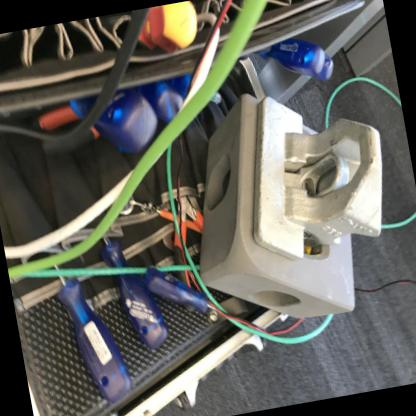CornerCasting: (184, 90, 356, 347)
Twistlock: (226, 72, 404, 282)
